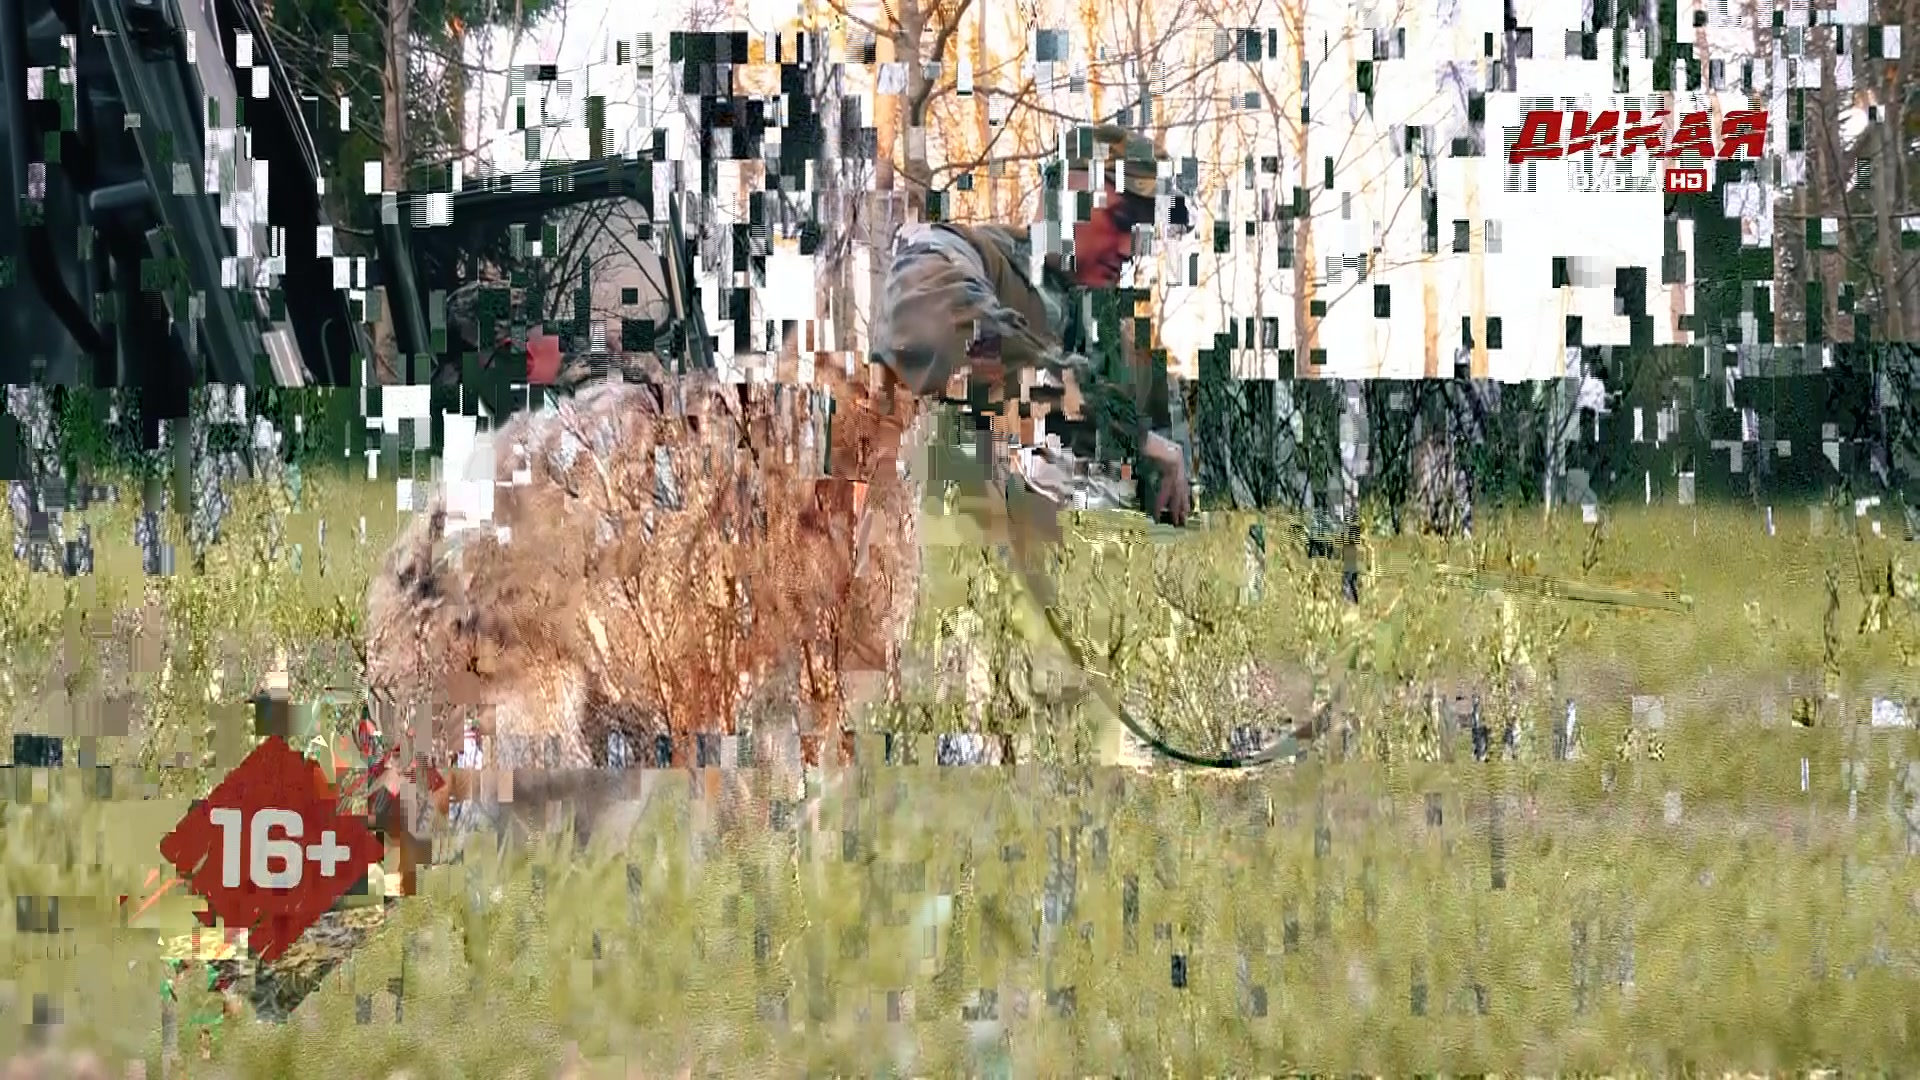Dikaya_Ohota_HD: (1505, 105, 1774, 196)
